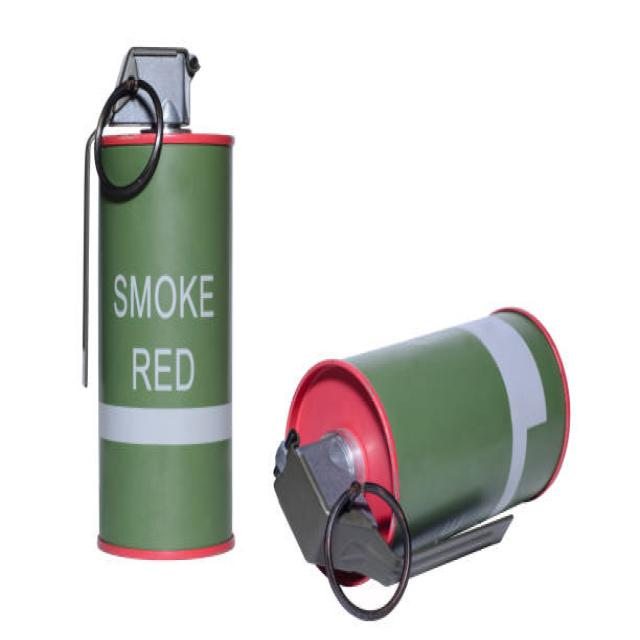grenade: (270, 290, 578, 633), (69, 36, 249, 581)
